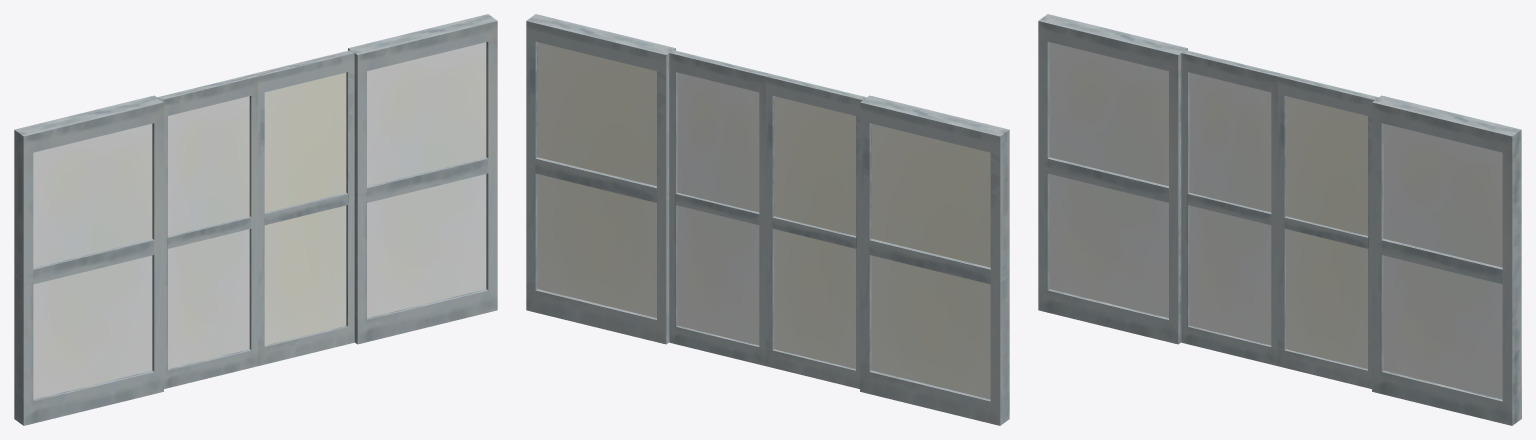
Rendered from doubledoor.gltf.
3 renders of one model, left to right at view 1: azimuth 30°, elevation 25°; view 2: azimuth 150°, elevation 25°; view 3: azimuth 330°, elevation 25°, orthographic.
Parts seen in each view (by area): view 1: SideDoorLeft, SideDoorRight, DoorRight, DoorLeft; view 2: SideDoorLeft, SideDoorRight, DoorRight, DoorLeft; view 3: SideDoorRight, SideDoorLeft, DoorLeft, DoorRight.
Boxes of the visible parts, bbox=[...] form: SideDoorLeft: bbox=[14, 95, 163, 425]; SideDoorRight: bbox=[348, 14, 497, 344]; DoorRight: bbox=[254, 50, 354, 366]; DoorLeft: bbox=[157, 73, 257, 388]; SideDoorLeft: bbox=[860, 95, 1009, 425]; SideDoorRight: bbox=[526, 14, 675, 344]; DoorRight: bbox=[669, 50, 769, 366]; DoorLeft: bbox=[766, 73, 866, 388]; SideDoorRight: bbox=[1372, 95, 1521, 425]; SideDoorLeft: bbox=[1038, 14, 1187, 344]; DoorLeft: bbox=[1181, 50, 1281, 366]; DoorRight: bbox=[1278, 73, 1378, 388].
Bounding box in the file's own units: 3.67 × 2.15 × 0.1275.
Materials: 2 (2 with a texture image).
